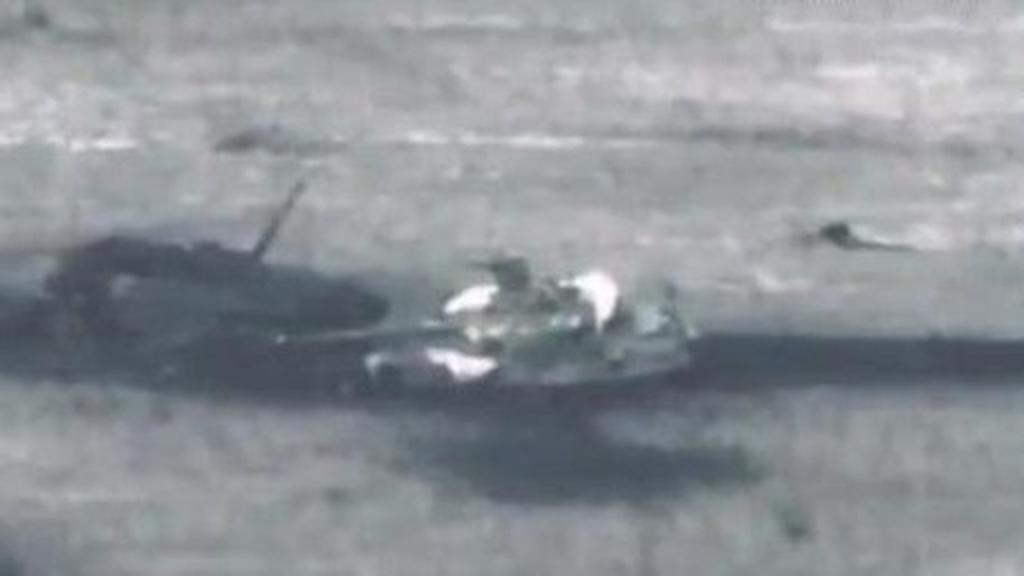TANK: (272, 246, 696, 422)
